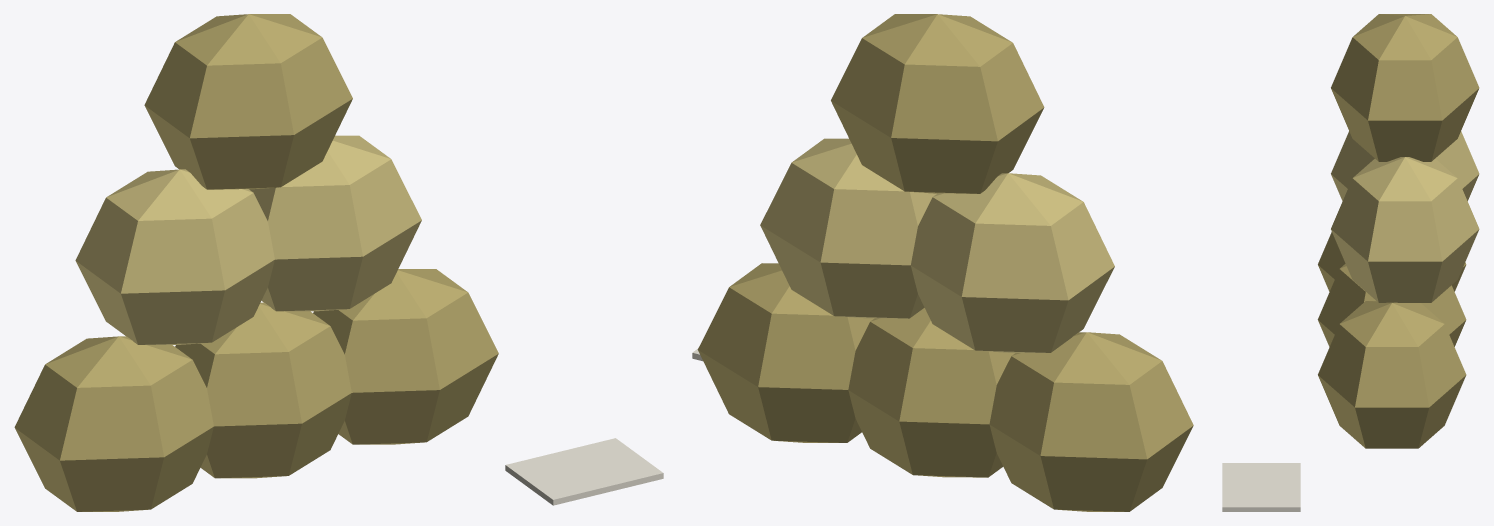
File: a3h_salt_sack_stack.glb
The picture shows the model from 3 angles, left to right: view 1: azimuth 30°, elevation 25°; view 2: azimuth 150°, elevation 25°; view 3: azimuth 270°, elevation 25°; orthographic projection. The views are drawn at different scales.
Visible parts, largest first — view 1: a3h_salt_sack_stack; view 2: a3h_salt_sack_stack; view 3: a3h_salt_sack_stack.
Boxes of the visible parts, box(x1,y1,x2,y2) form: a3h_salt_sack_stack: box(14, 14, 663, 511); a3h_salt_sack_stack: box(692, 14, 1193, 511); a3h_salt_sack_stack: box(1222, 14, 1479, 511).
Bounding box in the file's own units: 1.9 × 1.59 × 0.985.
